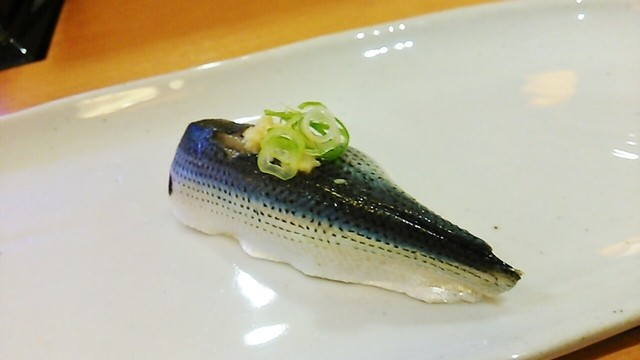spotted-shad: (163, 100, 531, 314)
